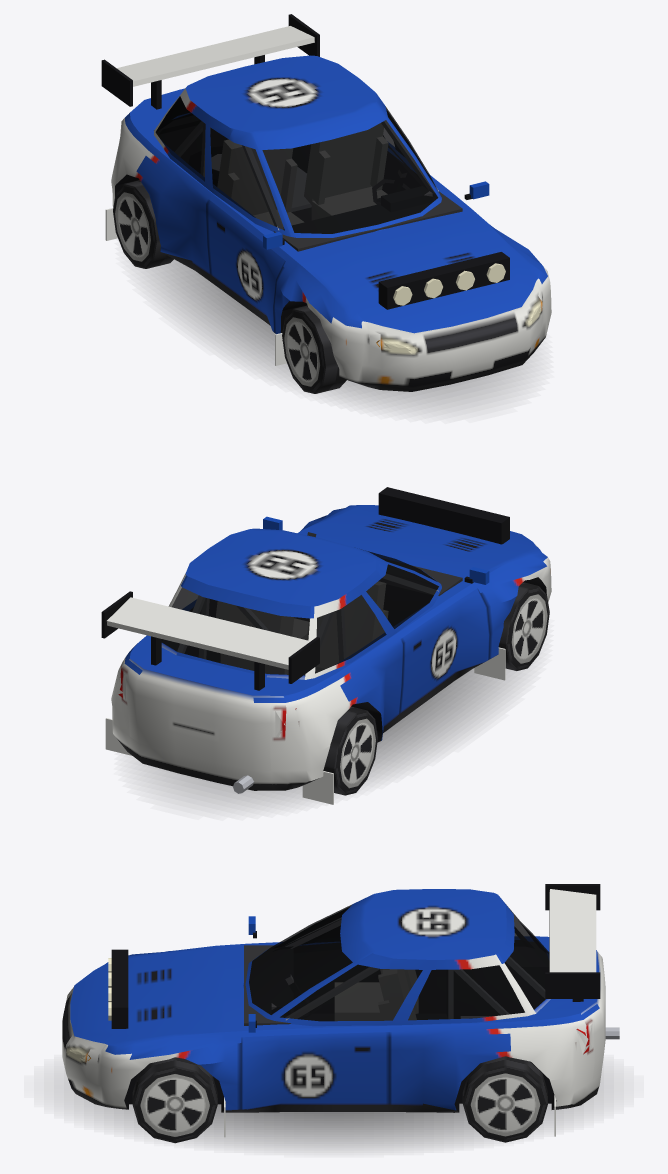
The model's file is rebojo.glb.
The picture shows the model from 3 angles, top to bottom: view 1: azimuth 30°, elevation 25°; view 2: azimuth 150°, elevation 25°; view 3: azimuth 270°, elevation 25°; orthographic projection. The views are drawn at different scales.
Parts seen in each view (by area): view 1: Carroceria, Interior, Capo_malha, Sombra, Porta_D_malha, Tampa_malha, Roda_DD, Roda_TD, Porta_E_malha; view 2: Carroceria, Tampa_malha, Capo_malha, Porta_D_malha, Interior, Sombra, Roda_TD, Roda_DD; view 3: Carroceria, Interior, Porta_E_malha, Capo_malha, Sombra, Tampa_malha, Roda_TE, Roda_DE, Porta_D_malha.
Part boxes in pixels (x1=…): Carroceria: x1=101, y1=14, x2=551, y2=391; Interior: x1=154, y1=116, x2=462, y2=251; Capo_malha: x1=304, y1=219, x2=537, y2=332; Sombra: x1=146, y1=259, x2=528, y2=409; Porta_D_malha: x1=206, y1=129, x2=290, y2=332; Tampa_malha: x1=117, y1=26, x2=314, y2=131; Roda_DD: x1=282, y1=305, x2=346, y2=393; Roda_TD: x1=113, y1=180, x2=173, y2=268; Porta_E_malha: x1=376, y1=94, x2=489, y2=199; Carroceria: x1=101, y1=505, x2=551, y2=804; Tampa_malha: x1=106, y1=576, x2=310, y2=770; Capo_malha: x1=304, y1=487, x2=536, y2=573; Porta_D_malha: x1=376, y1=559, x2=489, y2=711; Interior: x1=162, y1=532, x2=462, y2=674; Sombra: x1=143, y1=668, x2=520, y2=806; Roda_TD: x1=323, y1=706, x2=377, y2=795; Roda_DD: x1=498, y1=582, x2=549, y2=670; Carroceria: x1=62, y1=884, x2=619, y2=1137; Interior: x1=244, y1=918, x2=548, y2=1025; Porta_E_malha: x1=241, y1=953, x2=389, y2=1109; Capo_malha: x1=76, y1=947, x2=224, y2=1044; Sombra: x1=64, y1=1073, x2=603, y2=1148; Tampa_malha: x1=498, y1=889, x2=605, y2=1079; Roda_TE: x1=462, y1=1056, x2=547, y2=1142; Roda_DE: x1=132, y1=1057, x2=217, y2=1143; Porta_D_malha: x1=248, y1=908, x2=347, y2=947.
Size of the model in its own units: 2.52 by 1.35 by 4.65.
14 materials, 5 textured.
